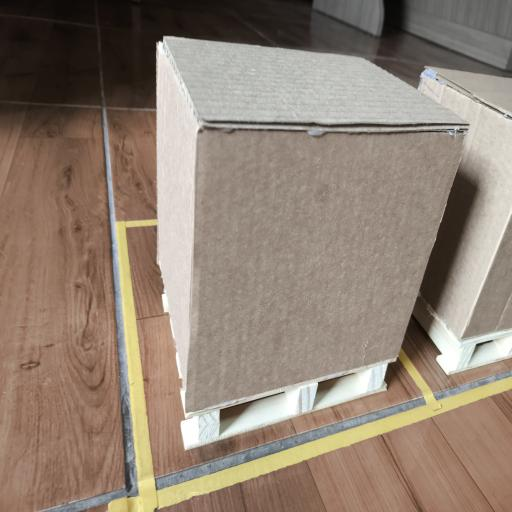pallet: (181, 360, 394, 449), (181, 361, 390, 449), (413, 295, 511, 374)
